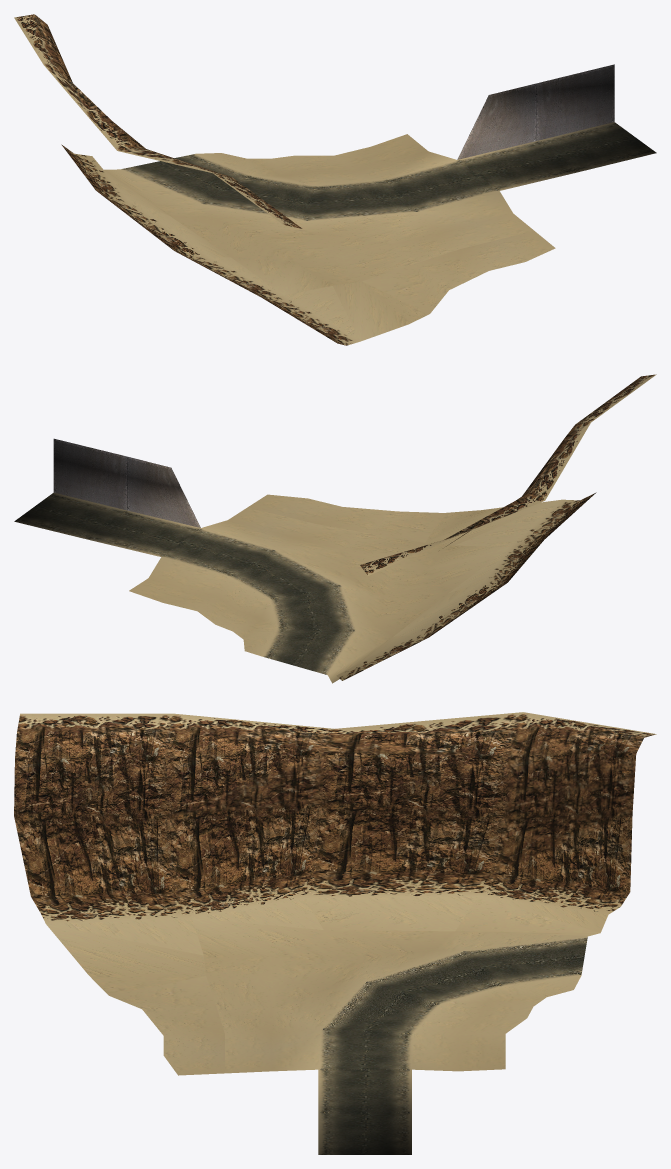
Rendered from M8Z5_Tunnel_End.glb.
3 renders of one model, top to bottom at view 1: azimuth 30°, elevation 25°; view 2: azimuth 150°, elevation 25°; view 3: azimuth 270°, elevation 25°, orthographic. The views are drawn at different scales.
Parts seen in each view (by area): view 1: M8Z5_TUNNEL_END; view 2: M8Z5_TUNNEL_END; view 3: M8Z5_TUNNEL_END.
Part boxes in pixels (x1,y1,x2,y2): M8Z5_TUNNEL_END: (14, 14, 656, 345); M8Z5_TUNNEL_END: (14, 374, 656, 683); M8Z5_TUNNEL_END: (14, 712, 656, 1154).
Size of the model in its own units: 57.98 by 17.1 by 54.99.
5 materials, 5 textured.
